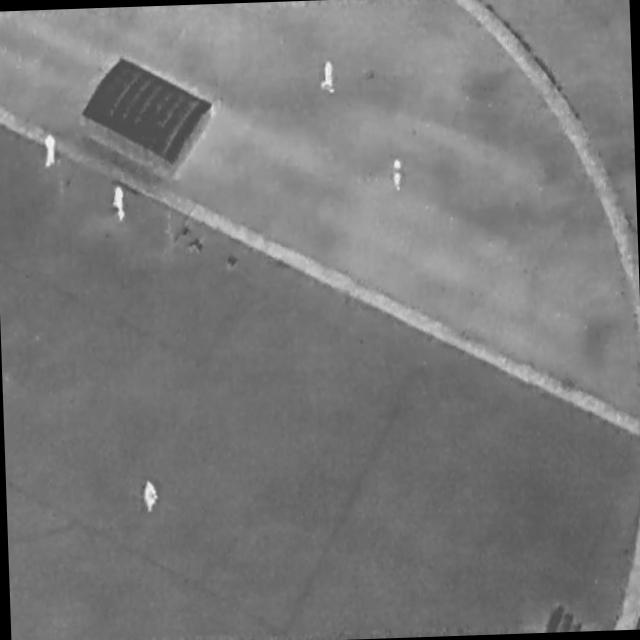person: (318, 57, 336, 95), (111, 185, 128, 225), (142, 479, 160, 514), (43, 131, 58, 172), (391, 159, 404, 195)
